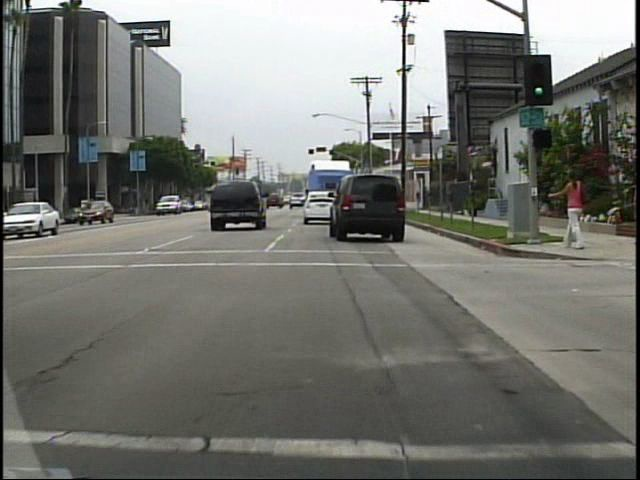person: (548, 166, 590, 251)
